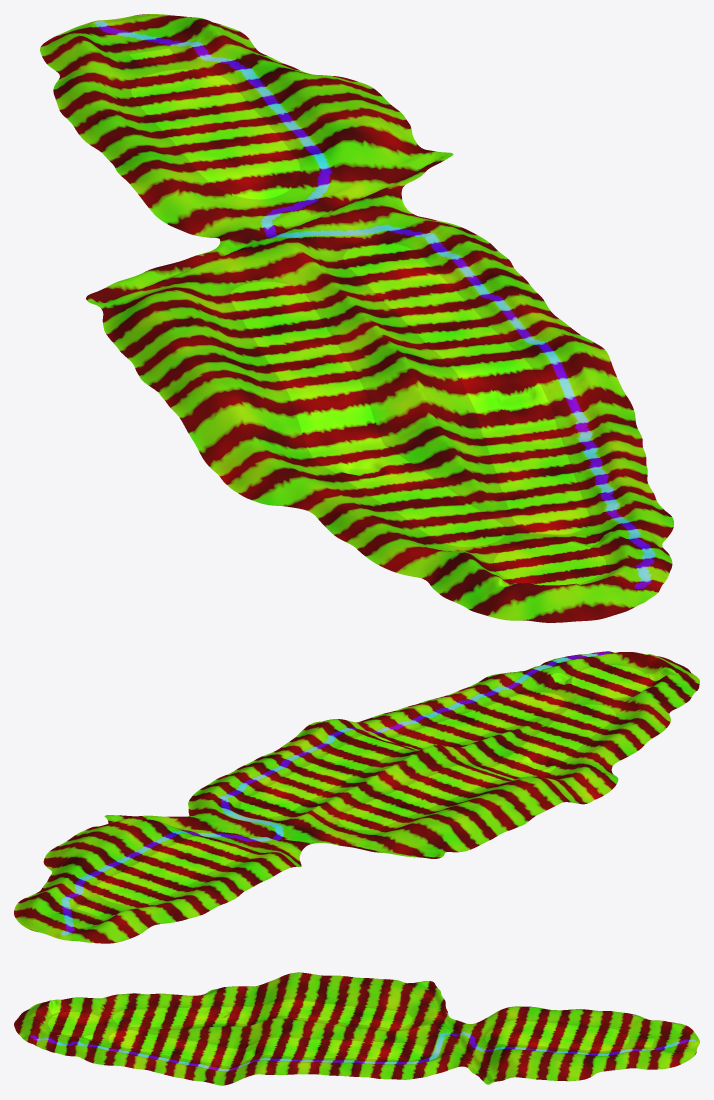
File: SM_H03_IslandTop.fbx
The picture shows the model from 3 angles, top to bottom: view 1: azimuth 30°, elevation 25°; view 2: azimuth 150°, elevation 25°; view 3: azimuth 270°, elevation 25°; orthographic projection. The views are drawn at different scales.
Parts seen in each view (by area): view 1: SM_H03_IslandTop; view 2: SM_H03_IslandTop; view 3: SM_H03_IslandTop.
Boxes of the visible parts, x1,y1,x2,y2 form: SM_H03_IslandTop: [40, 14, 673, 622]; SM_H03_IslandTop: [14, 651, 699, 943]; SM_H03_IslandTop: [14, 972, 699, 1085].
Size of the model in its own units: 156 by 23.93 by 391.
